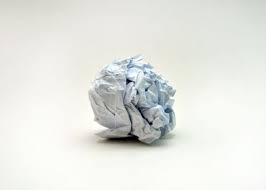crumpled paper: (89, 57, 181, 144)
